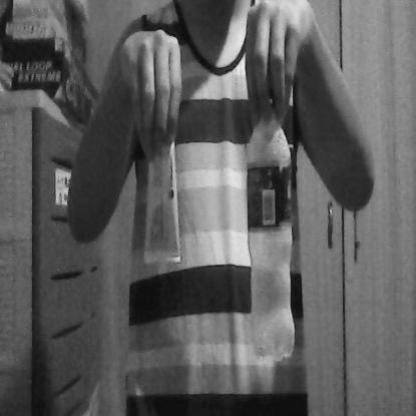Plastic Bottle: (236, 81, 306, 377)
